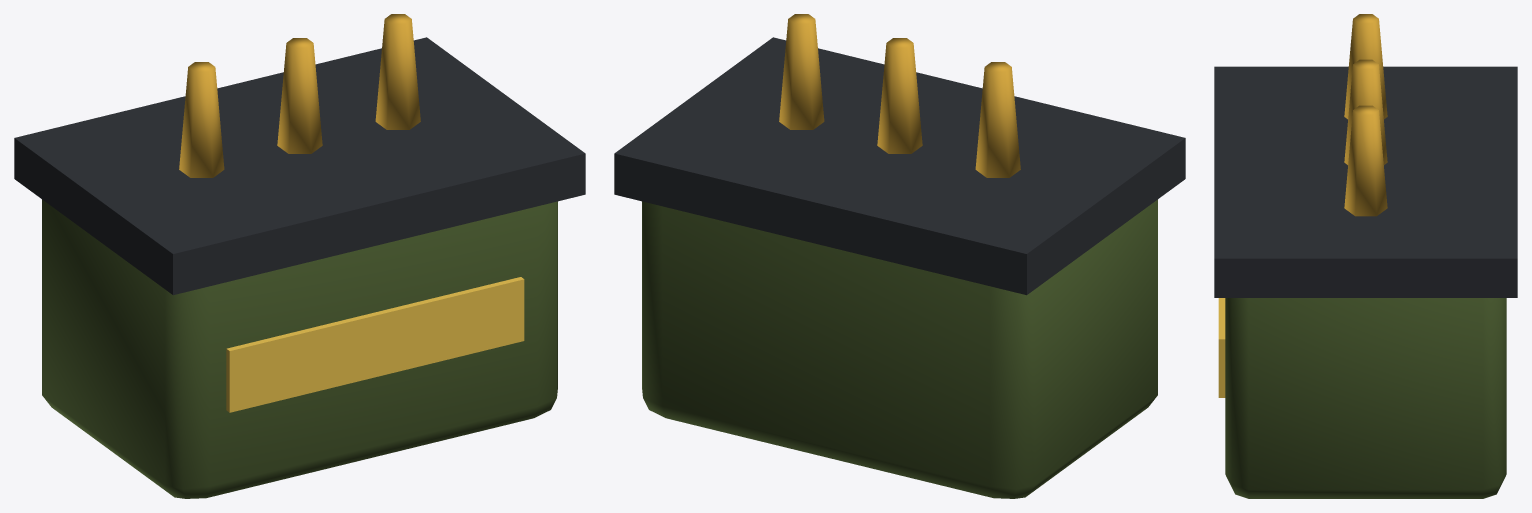
File: prop_pickup_ammo.glb
3 views of the same model, side by side, from view 1: azimuth 30°, elevation 25°; view 2: azimuth 150°, elevation 25°; view 3: azimuth 270°, elevation 25° (orthographic). The views are drawn at different scales.
Visible parts, largest first — view 1: pickup_ammo; view 2: pickup_ammo; view 3: pickup_ammo.
Boxes of the visible parts, box(x1,y1,x2,y2) form: pickup_ammo: box(14, 14, 585, 498); pickup_ammo: box(614, 14, 1185, 498); pickup_ammo: box(1214, 14, 1517, 498).
Bounding box in the file's own units: 0.42 × 0.36 × 0.28.
